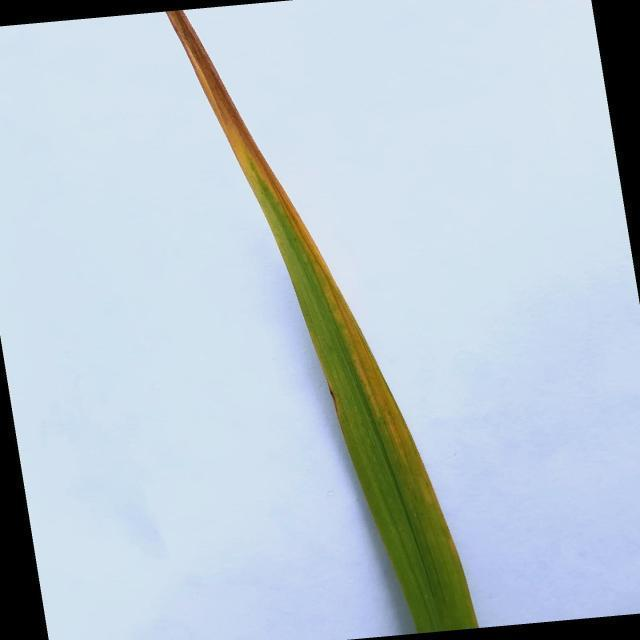Rice Tungro: (163, 10, 441, 513)
